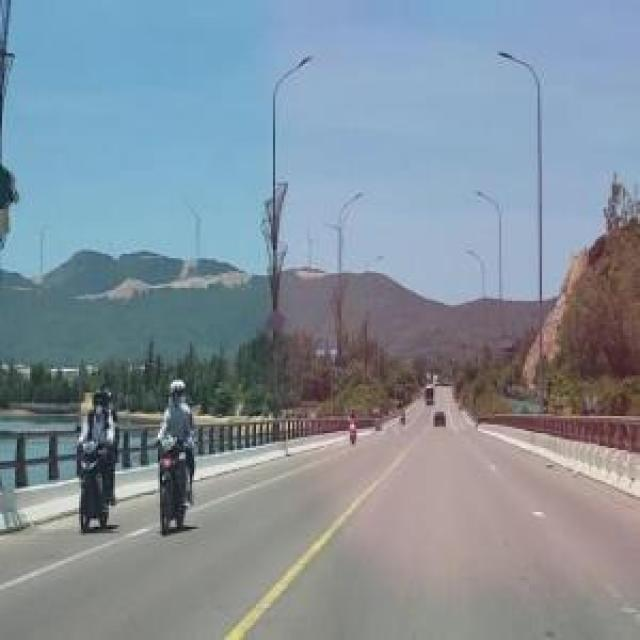clear-road: (0, 387, 640, 640)
